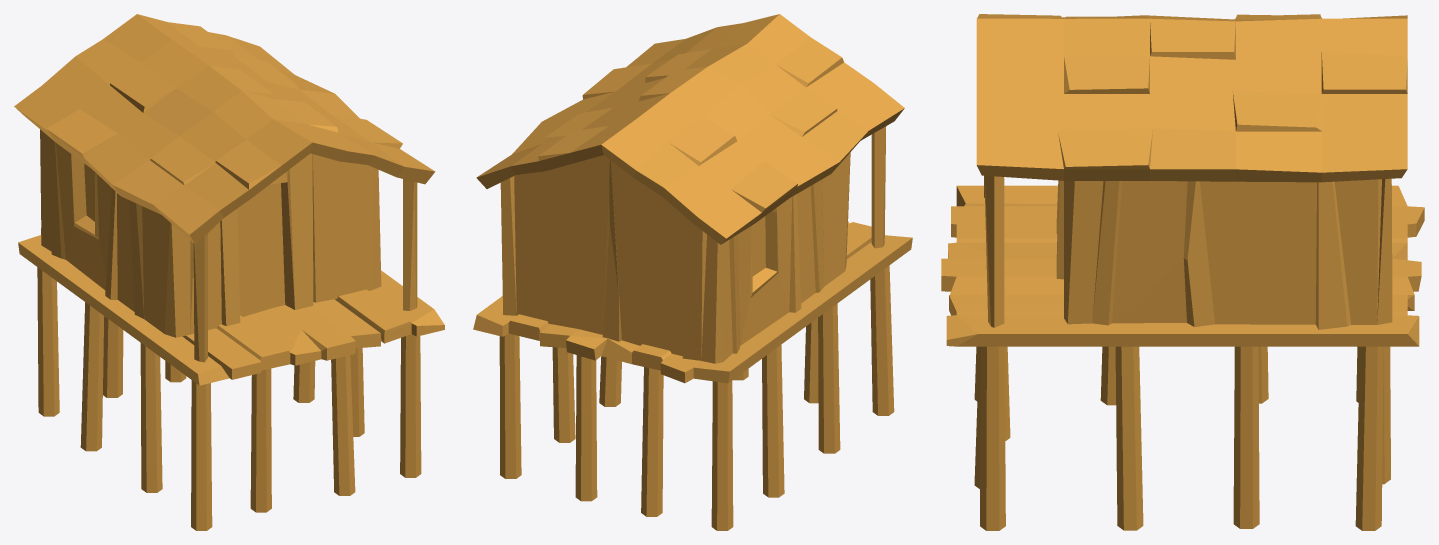
File: pirate-hut-platform-wood.fbx
3 views of the same model, side by side, from view 1: azimuth 30°, elevation 25°; view 2: azimuth 150°, elevation 25°; view 3: azimuth 270°, elevation 25° (orthographic). The views are drawn at different scales.
Parts seen in each view (by area): view 1: pirate-hut-platform-wood; view 2: pirate-hut-platform-wood; view 3: pirate-hut-platform-wood.
Boxes of the visible parts, <box> form: pirate-hut-platform-wood: <box>14,14,444,530</box>; pirate-hut-platform-wood: <box>473,14,912,530</box>; pirate-hut-platform-wood: <box>941,14,1424,530</box>.
Size of the model in its own units: 4.34 by 5.82 by 5.74.
